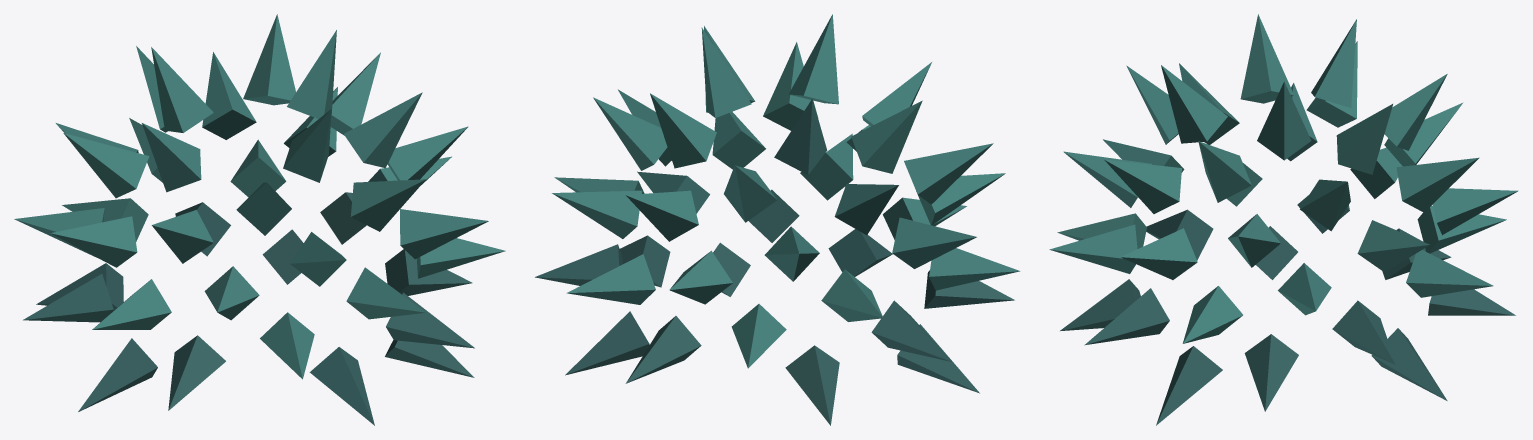
The model's file is mold_blue_bristle.glb.
3 views of the same model, side by side, from view 1: azimuth 30°, elevation 25°; view 2: azimuth 150°, elevation 25°; view 3: azimuth 270°, elevation 25° (orthographic). The views are drawn at different scales.
Visible parts, largest first — view 1: body; view 2: body; view 3: body.
Boxes of the visible parts, x1,y1,x2,y2 form: body: (14,14,505,425); body: (535,14,1020,425); body: (1049,14,1518,425).
Bounding box in the file's own units: 0.5989 × 0.4384 × 0.6014.
